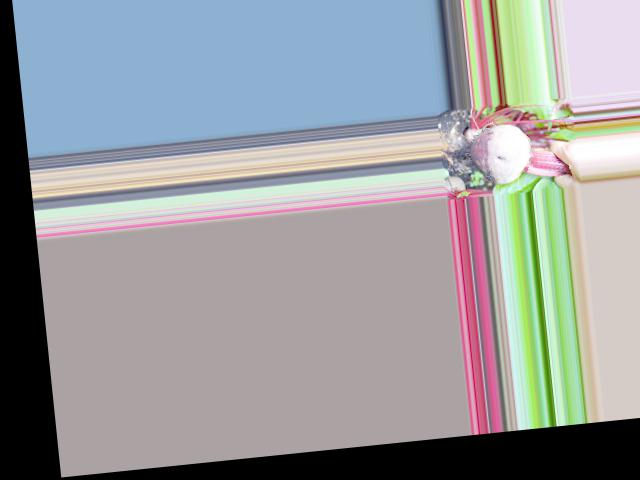beet: (438, 117, 571, 189)
